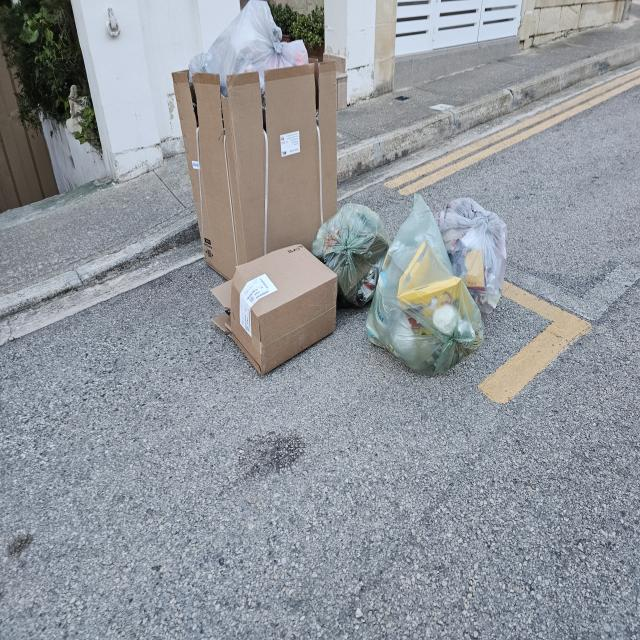grey_bag: (364, 203, 482, 379), (440, 194, 509, 316), (189, 7, 307, 72), (328, 201, 386, 306)
other_waste: (174, 77, 335, 268), (209, 244, 336, 376)
